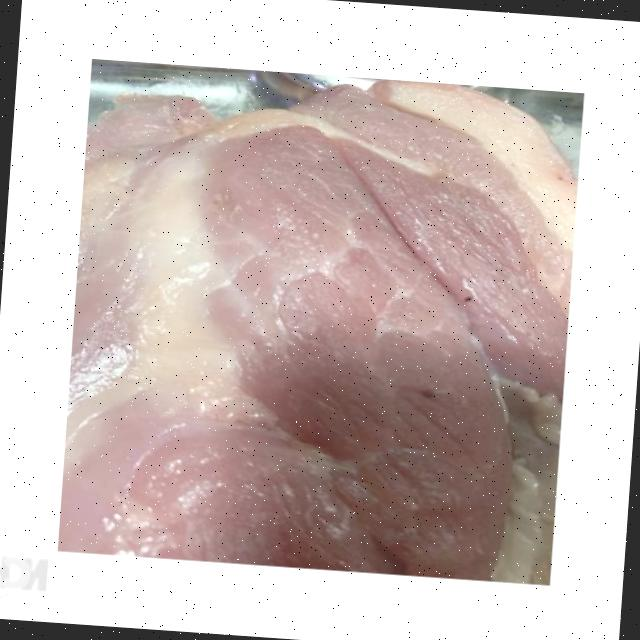rotten meat: (40, 36, 610, 596)
